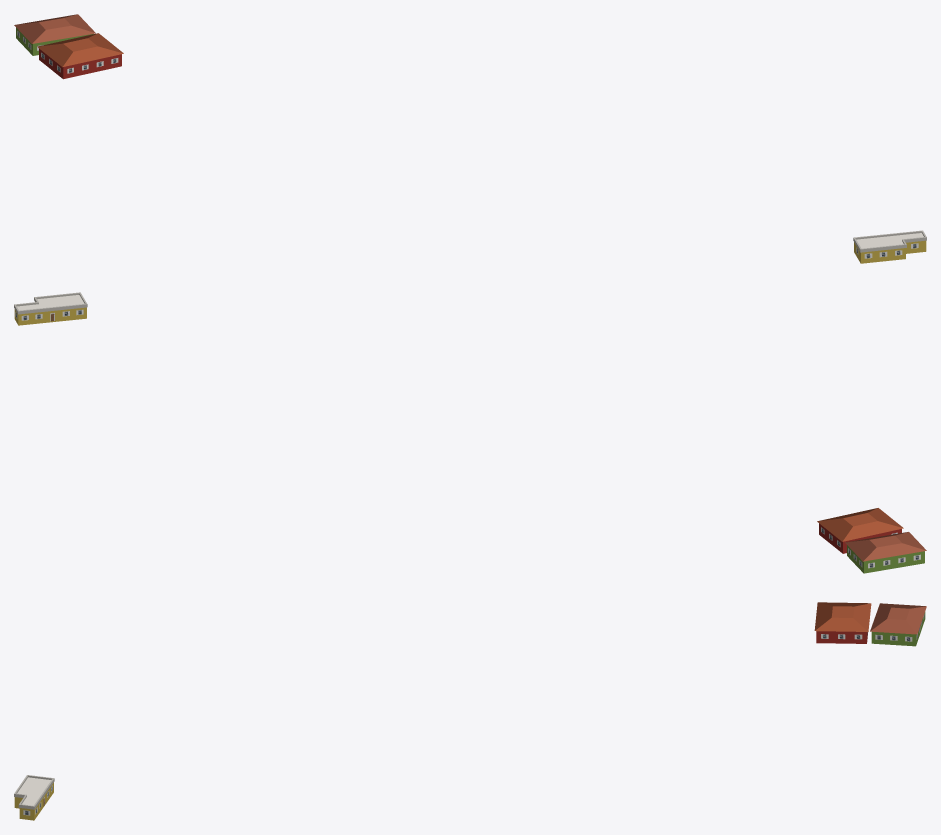
The model's file is msb_sannicolas_16_23.glb.
3 views of the same model, one above another, from view 1: azimuth 30°, elevation 25°; view 2: azimuth 210°, elevation 25°; view 3: azimuth 270°, elevation 25° (orthographic). The views are drawn at different scales.
Visible parts, largest first — view 1: msb_sannicolas_16_23_lod0; view 2: msb_sannicolas_16_23_lod0; view 3: msb_sannicolas_16_23_lod0.
Boxes of the visible parts, x1,y1,x2,y2 form: msb_sannicolas_16_23_lod0: [14, 14, 926, 263]; msb_sannicolas_16_23_lod0: [14, 292, 926, 573]; msb_sannicolas_16_23_lod0: [14, 602, 926, 820].
Size of what is drawn, in the model's own units: 131 by 8.1 by 229.
3 materials, 1 textured.
